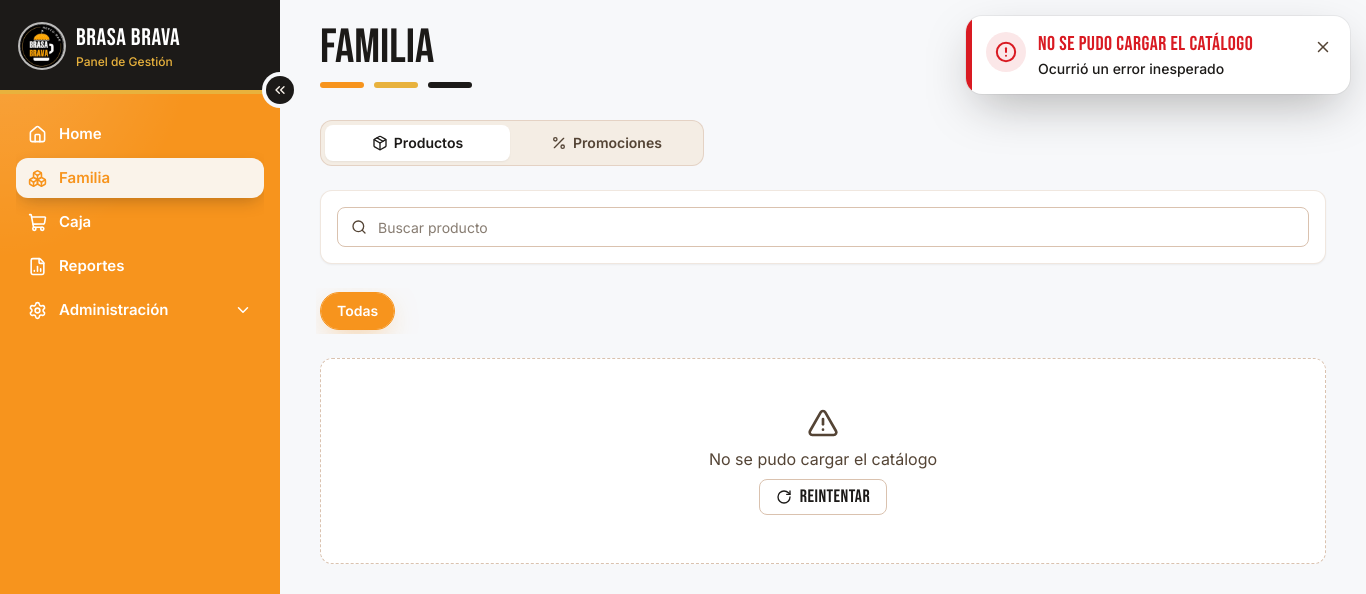
it: Familia: avisos de error › avisa arriba a la derecha si el catálogo no carga y permite reintentar
This screenshot has width=1366, height=594.
Expected: the message shows "No se pudo cargar el catálogo", [1038, 32, 1253, 56]
Expected: the text "No se pudo cargar el catálogo" is shown 2 times, [709, 447, 937, 471]; [1038, 32, 1253, 56]
Click the button "Reintentar". click: (823, 497)
box: [759, 479, 887, 515]
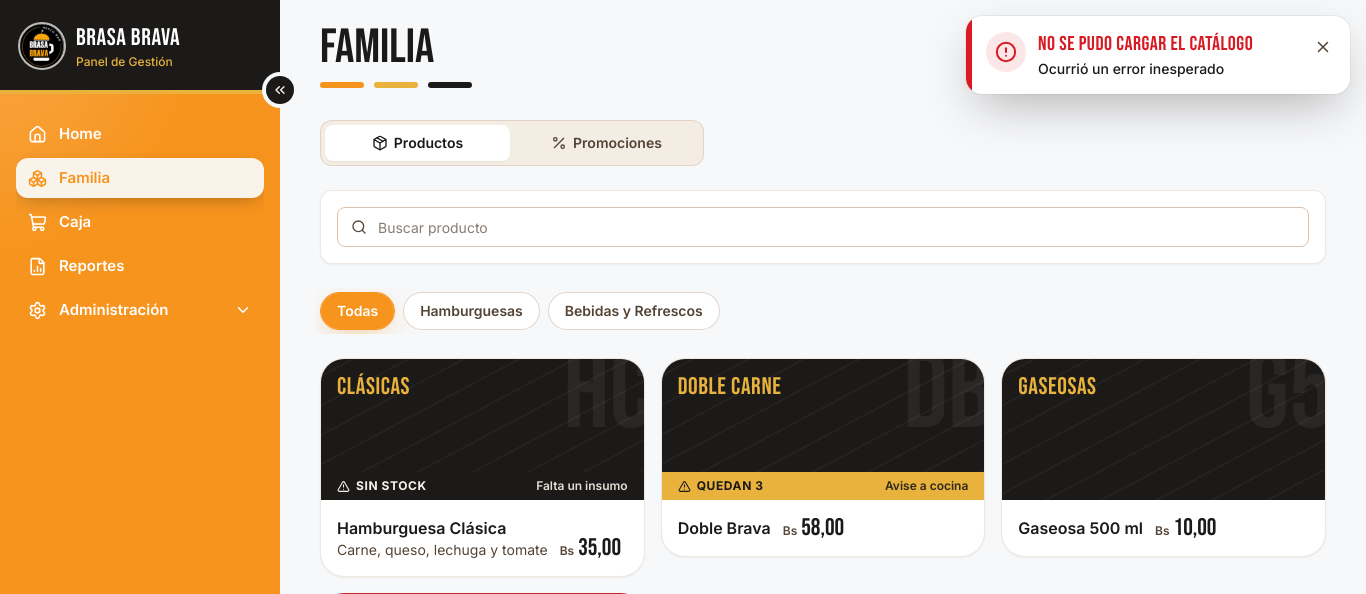
Now the button with aria-label "Ver Doble Brava" is shown, box [661, 358, 985, 557]
